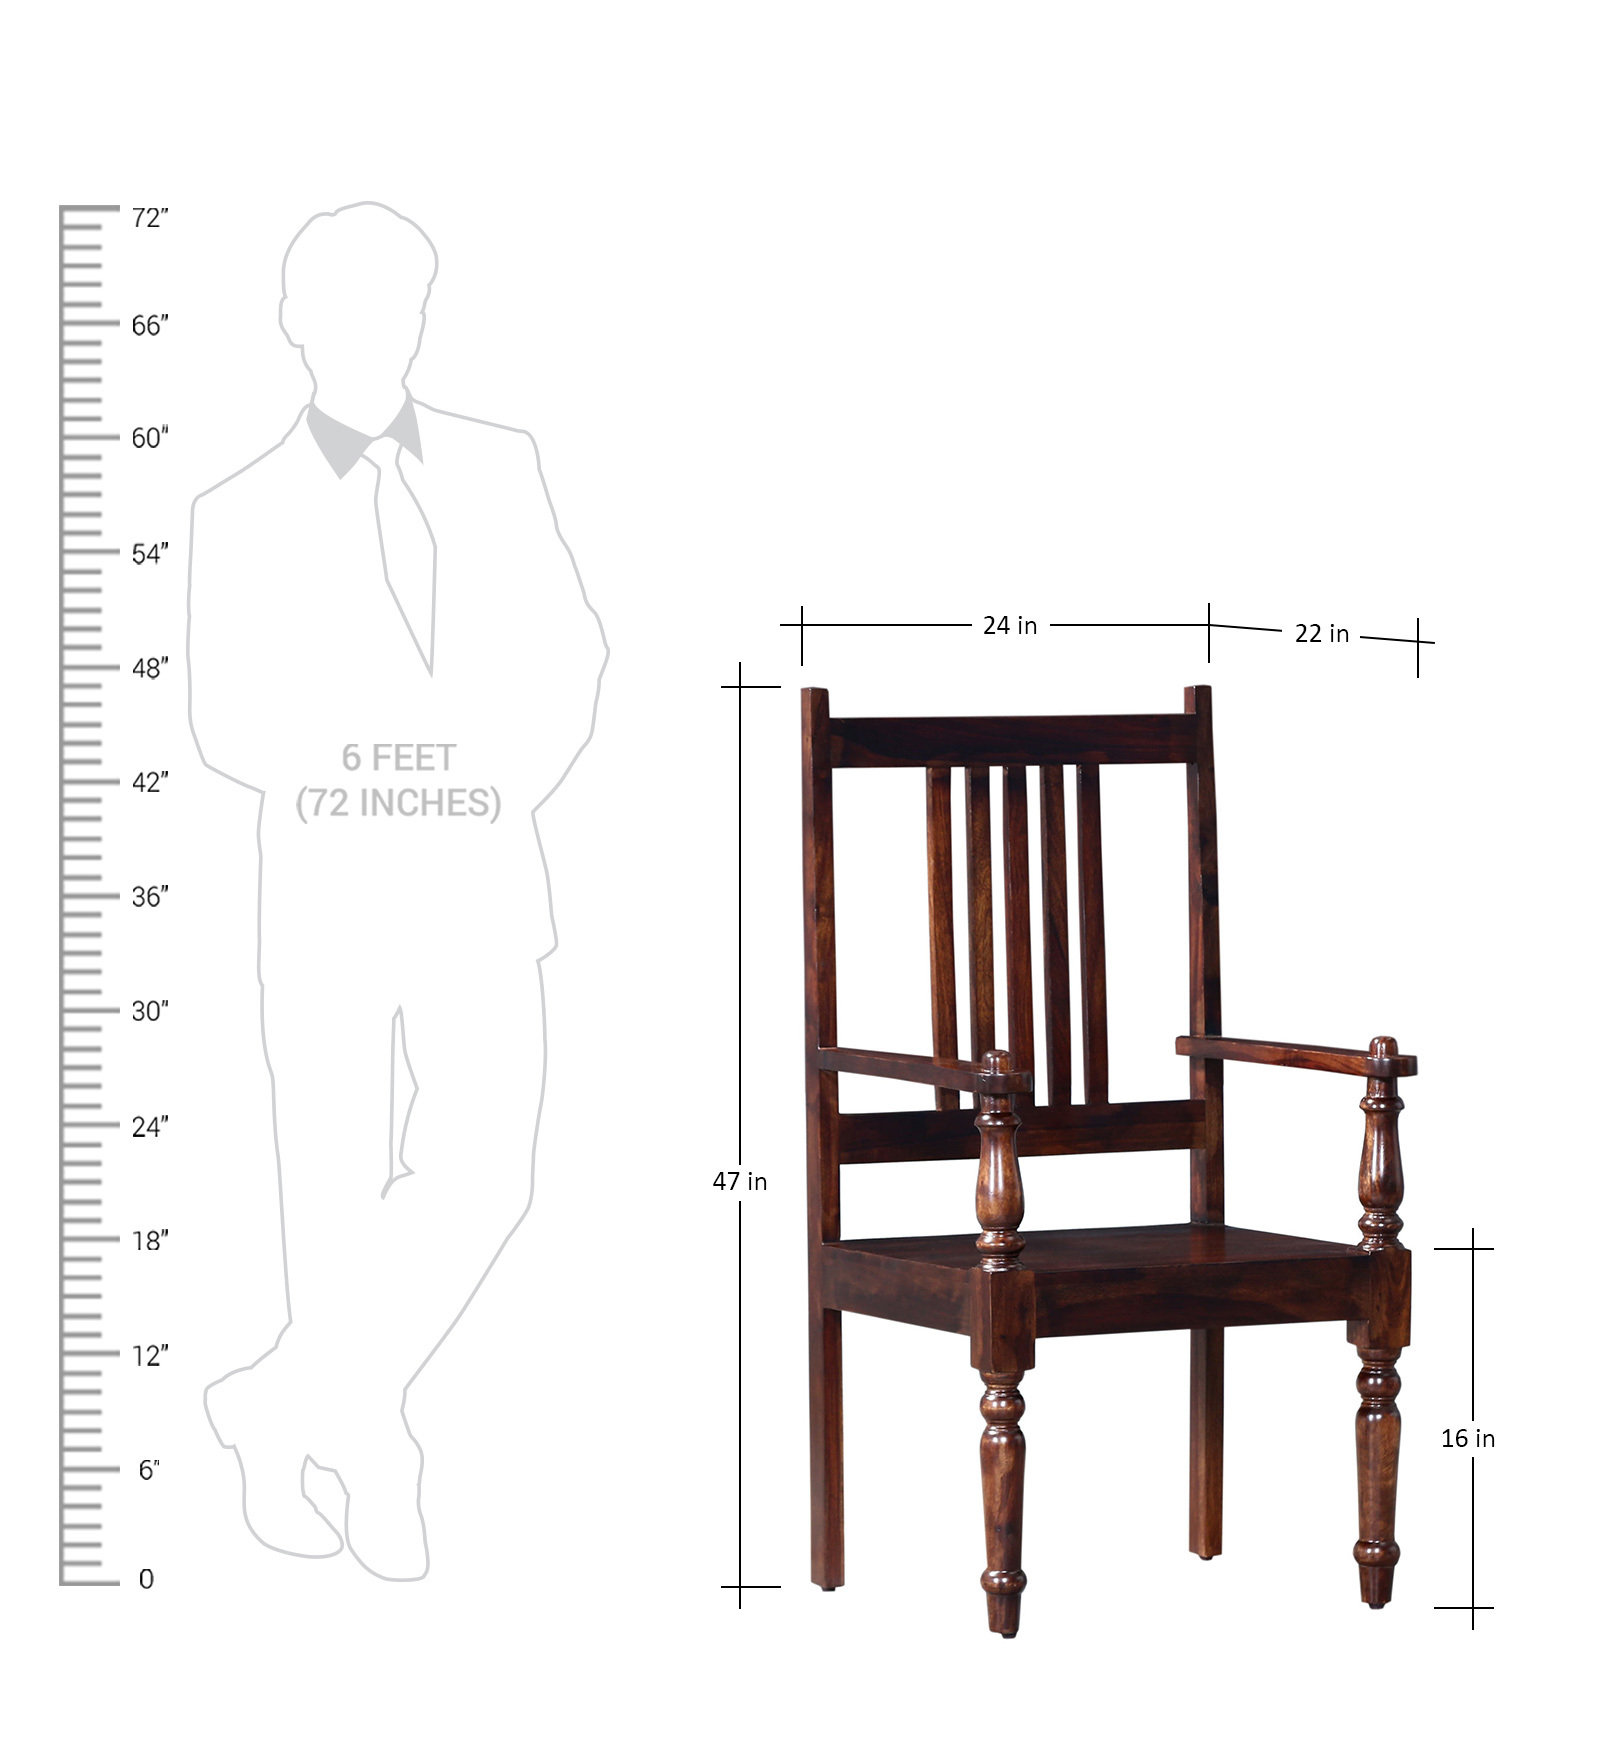Raylestone Arm Chair in Provincial Teak Finish by Amberville: (772, 659, 1434, 1657)
